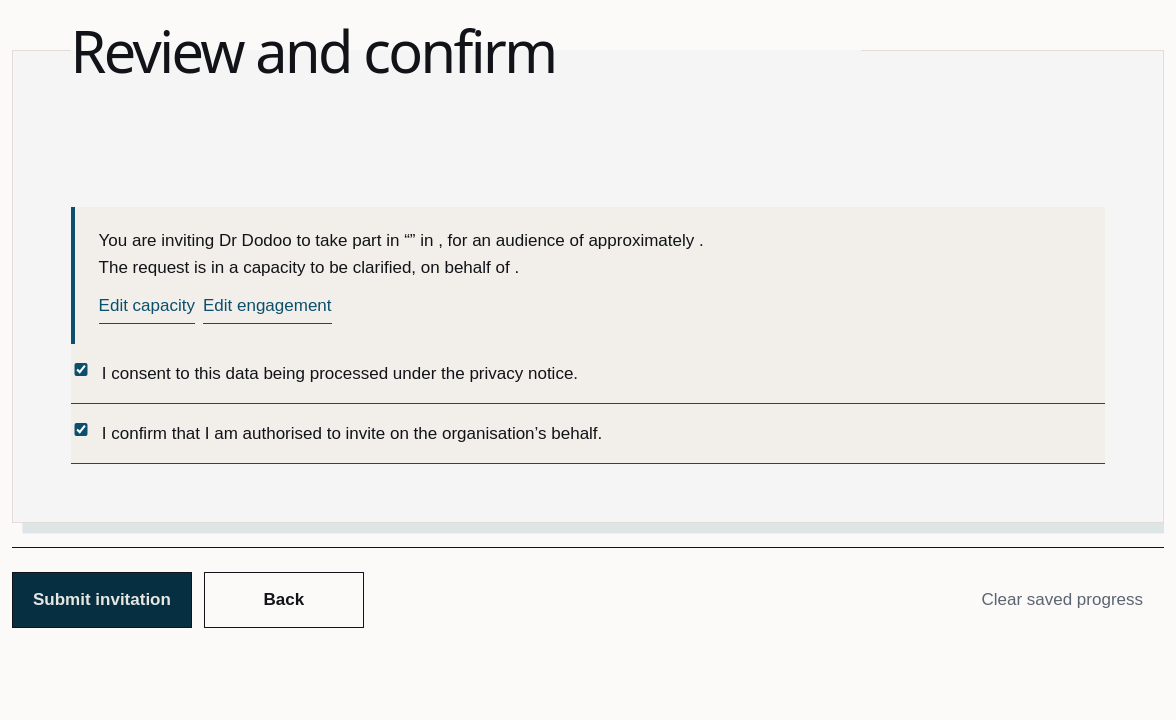
Scenario: ProtocolDeskForm › retains the current step and announces an error when submission fails
The width and height of the screenshot is (1176, 720).
(page scrolled)
Click the button "Submit invitation".
click(102, 600)  # box [12,572,192,628]
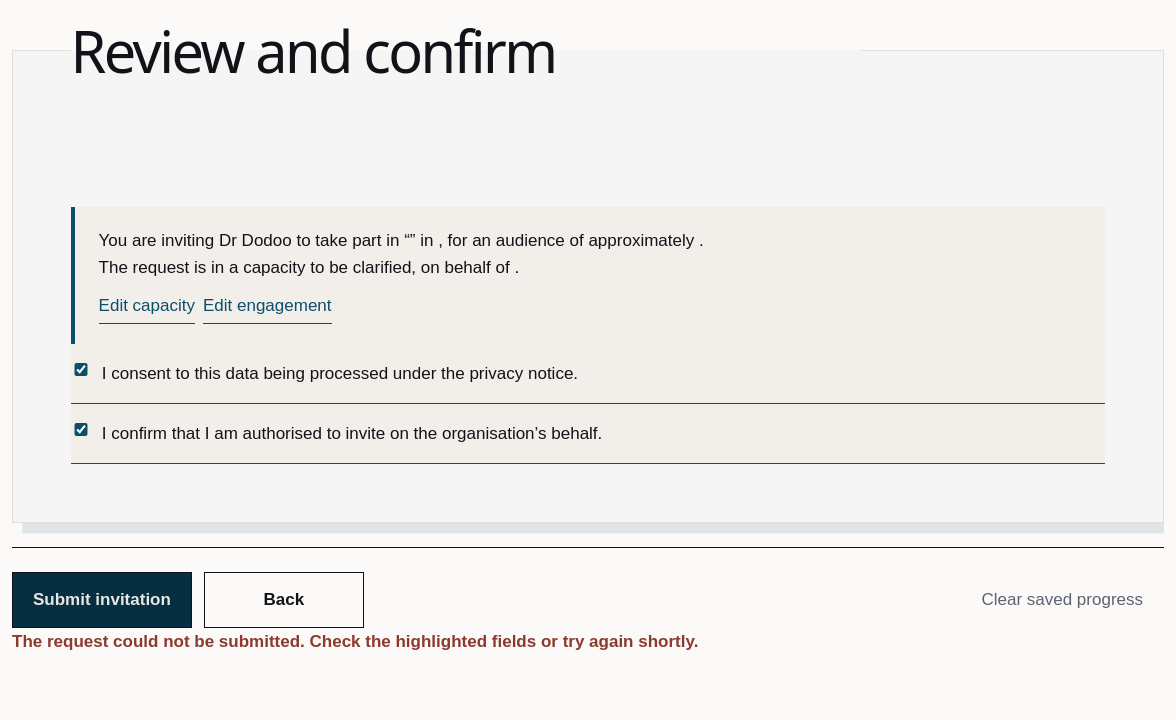
Expected: the message shows "could not be submitted", [12,632,698,651]
